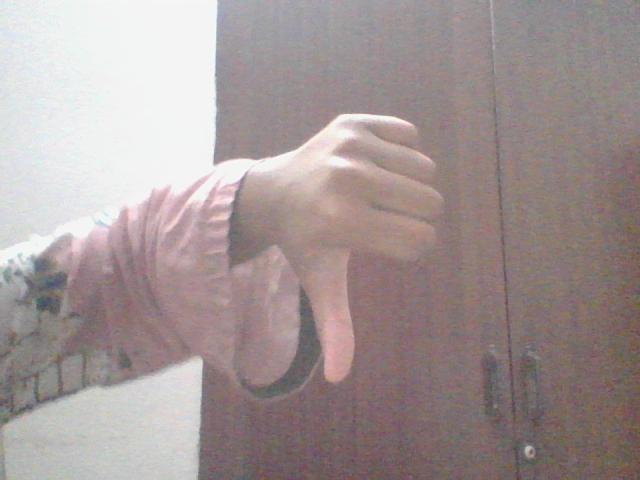thumbs-down: (293, 106, 459, 389)
